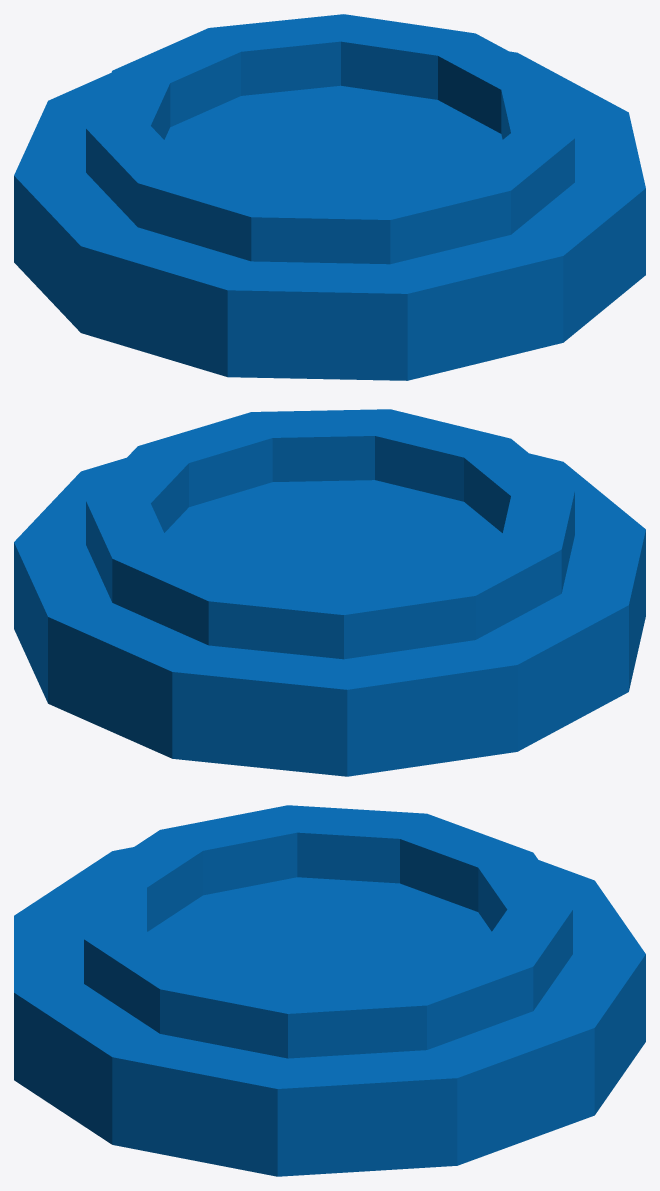
File: SwitchBody.fbx
The picture shows the model from 3 angles, top to bottom: view 1: azimuth 30°, elevation 25°; view 2: azimuth 150°, elevation 25°; view 3: azimuth 270°, elevation 25°; orthographic projection.
Visible parts, largest first — view 1: Cylinder; view 2: Cylinder; view 3: Cylinder.
Boxes of the visible parts, bbox=[...] form: Cylinder: bbox=[14, 14, 645, 380]; Cylinder: bbox=[14, 409, 645, 776]; Cylinder: bbox=[14, 805, 645, 1176].
Bounding box in the file's own units: 198 × 45.25 × 196.
